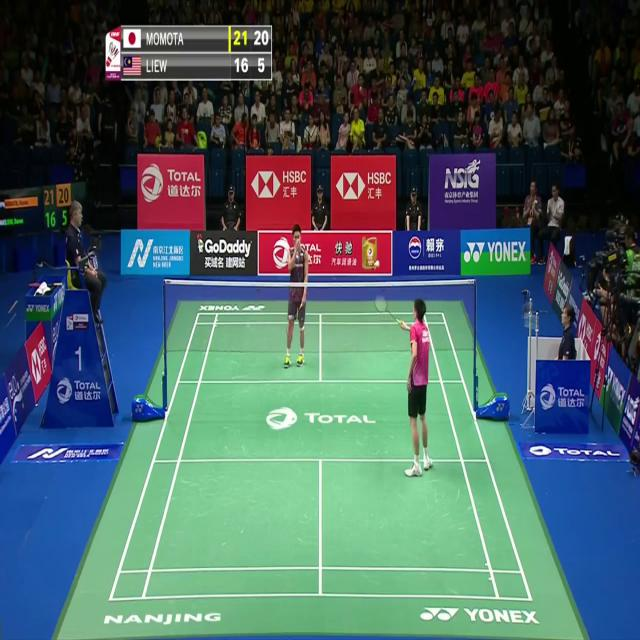Shuttlecock: (374, 256, 381, 268)
